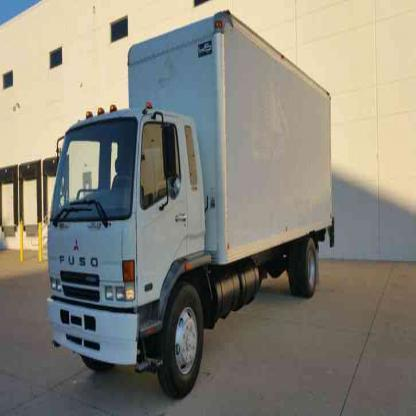truck: (46, 11, 335, 399)
